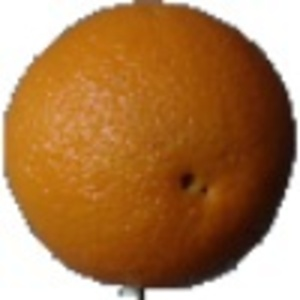laranja: (2, 2, 297, 298)
